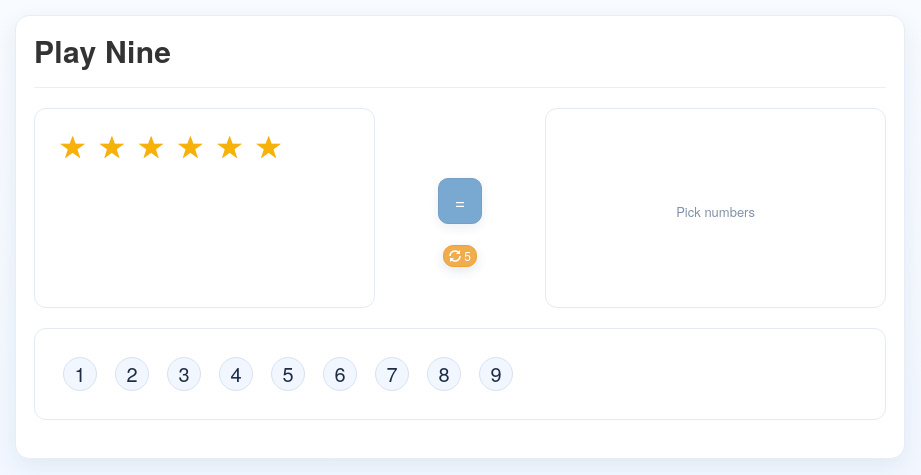
Test: Game › disables the redraw button once no redraws are left
The width and height of the screenshot is (921, 475).
Click the button named "Redraw" at (460, 256), box [443,245,477,267]
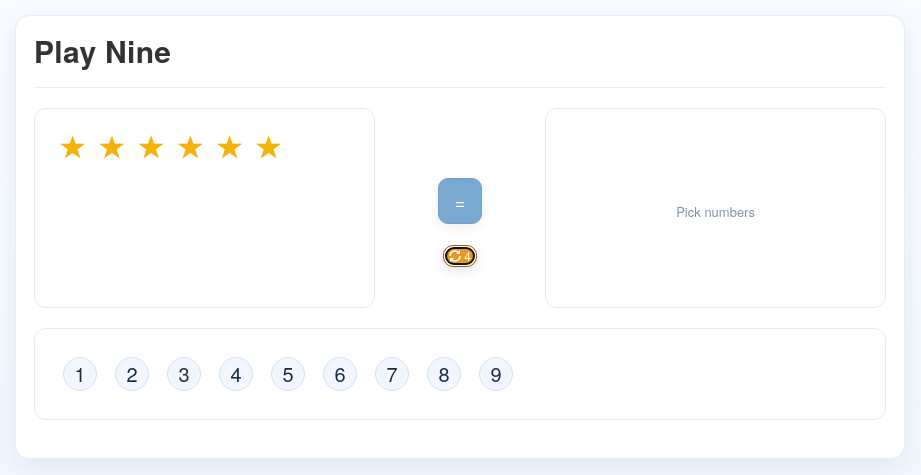
Click the button named "Redraw" at (460, 256), box [443,245,477,267]
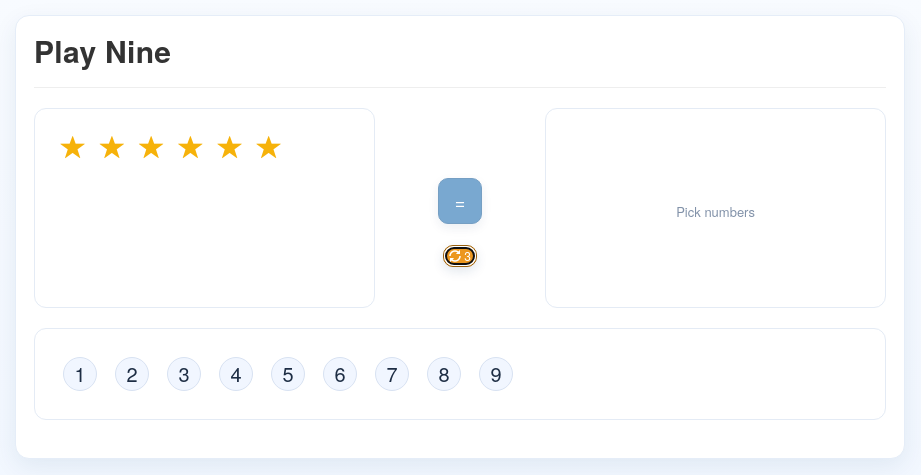
Click the button named "Redraw" at (460, 256), box [443,245,477,267]
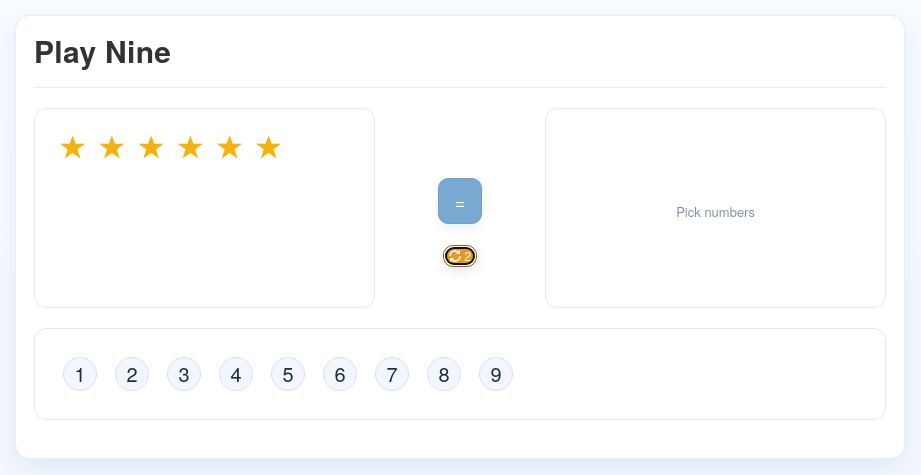
Click the button named "Redraw" at (460, 256), box [443,245,477,267]
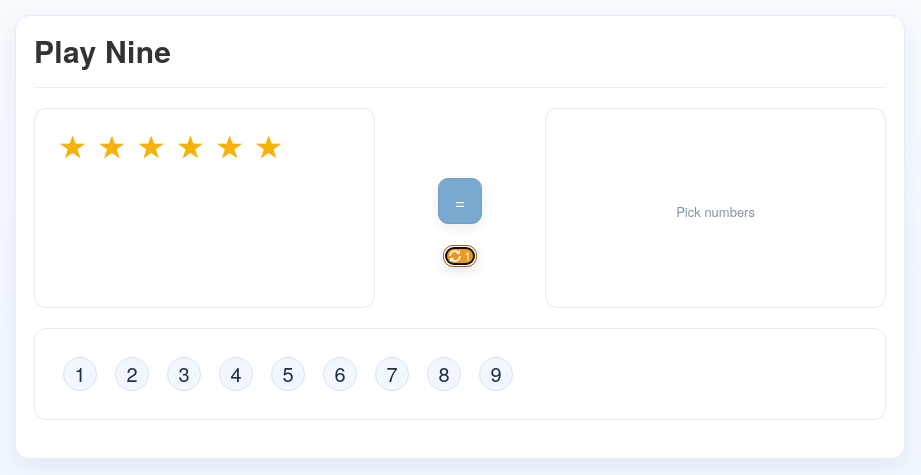
Click the button named "Redraw" at (460, 256), box [443,245,477,267]
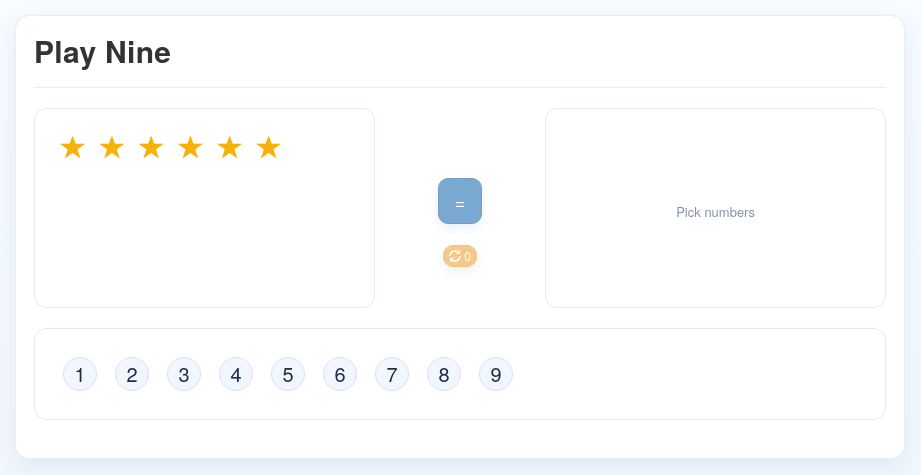
Expected: the button named "Redraw" is disabled, [443,245,477,267]
